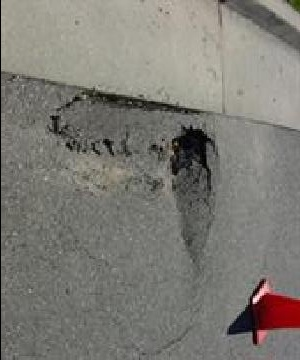pothole: (45, 86, 216, 160), (167, 124, 216, 264)
